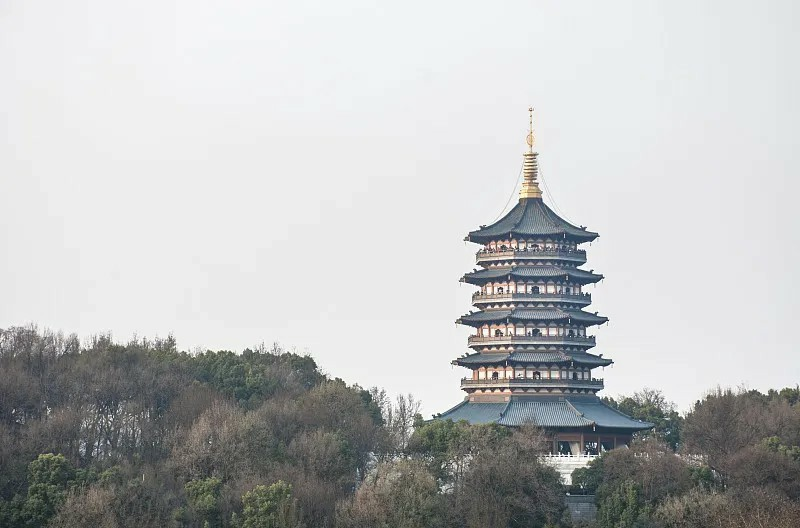Leifeng: (427, 108, 655, 455)
